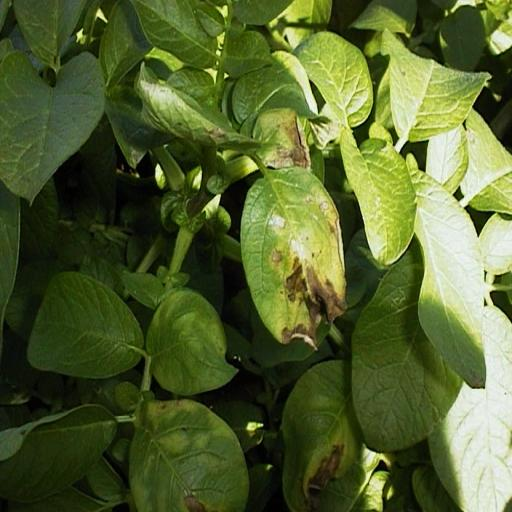Late Blight: (238, 164, 346, 354), (273, 354, 371, 512), (126, 396, 252, 512), (246, 104, 320, 178)
